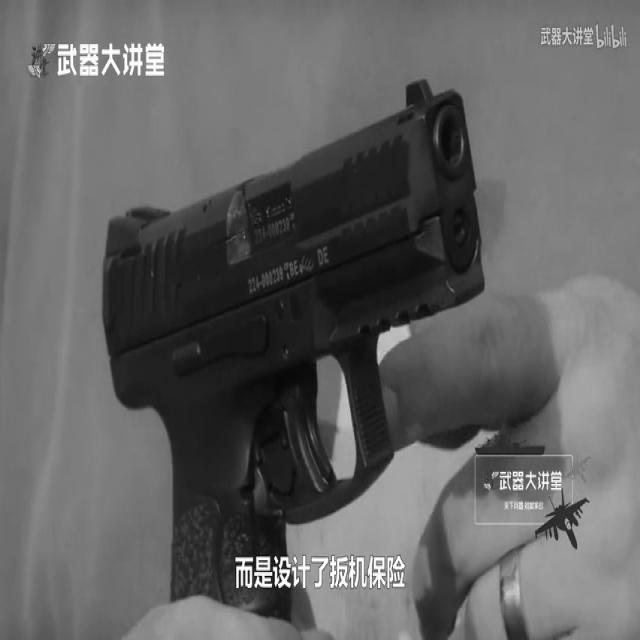Hand-Gun: (84, 0, 524, 640)
